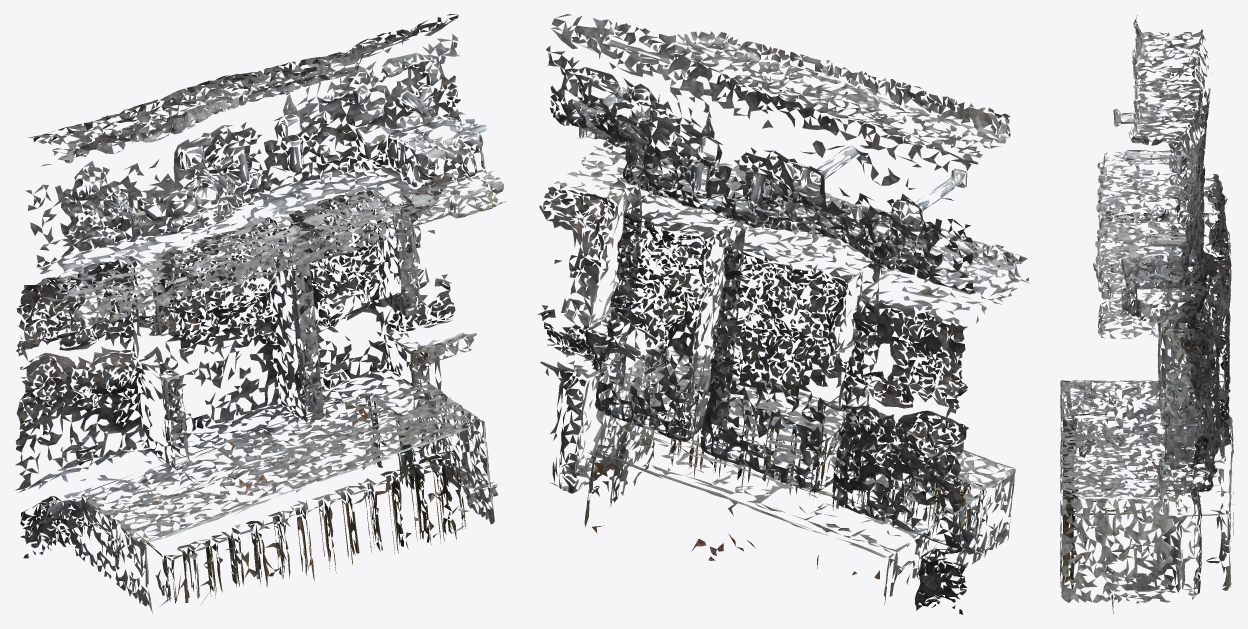
3 renders of one model, left to right at view 1: azimuth 30°, elevation 25°; view 2: azimuth 150°, elevation 25°; view 3: azimuth 270°, elevation 25°, orthographic. The views are drawn at different scales.
Bounding box in the file's own units: 13.55 × 14.43 × 5.16.
Materials: 1 (1 with a texture image).
